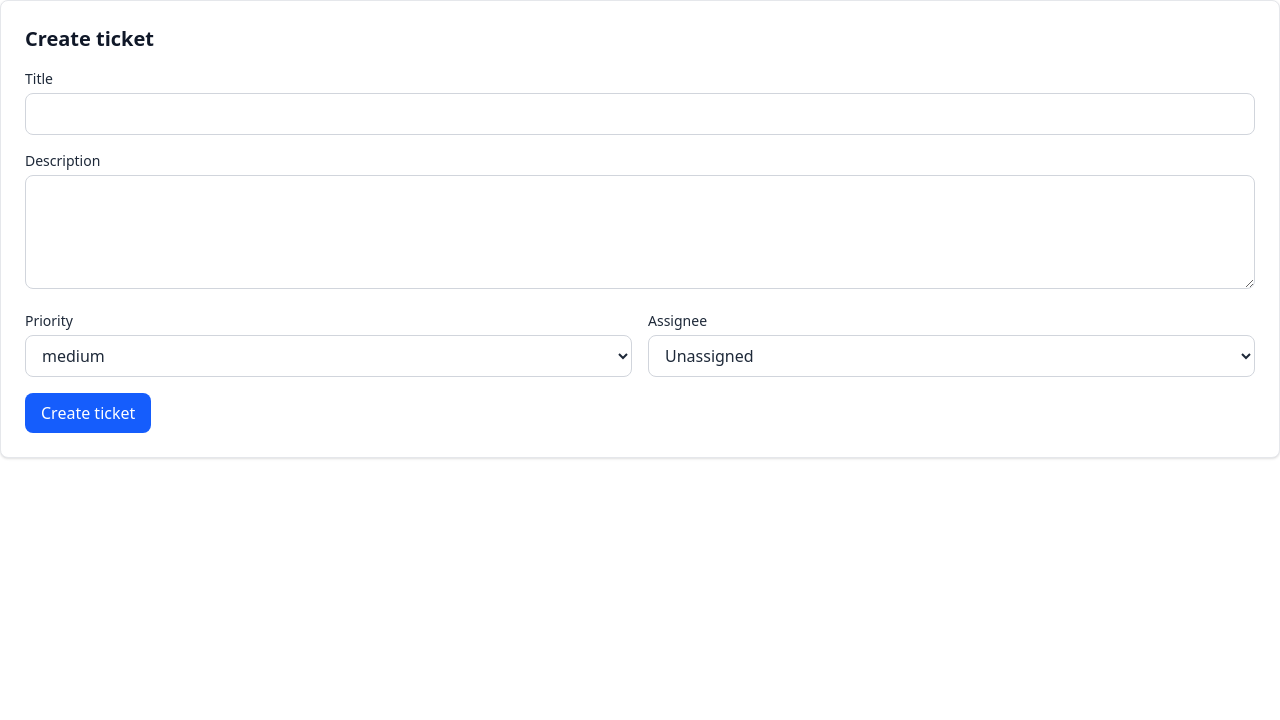
it: CreateTicketForm › shows validation error for HTML in title
Type "Bad <title>" into the field labelled "Title".
click(640, 114); type("Bad <title>")  # box x1=25 y1=93 x2=1255 y2=135
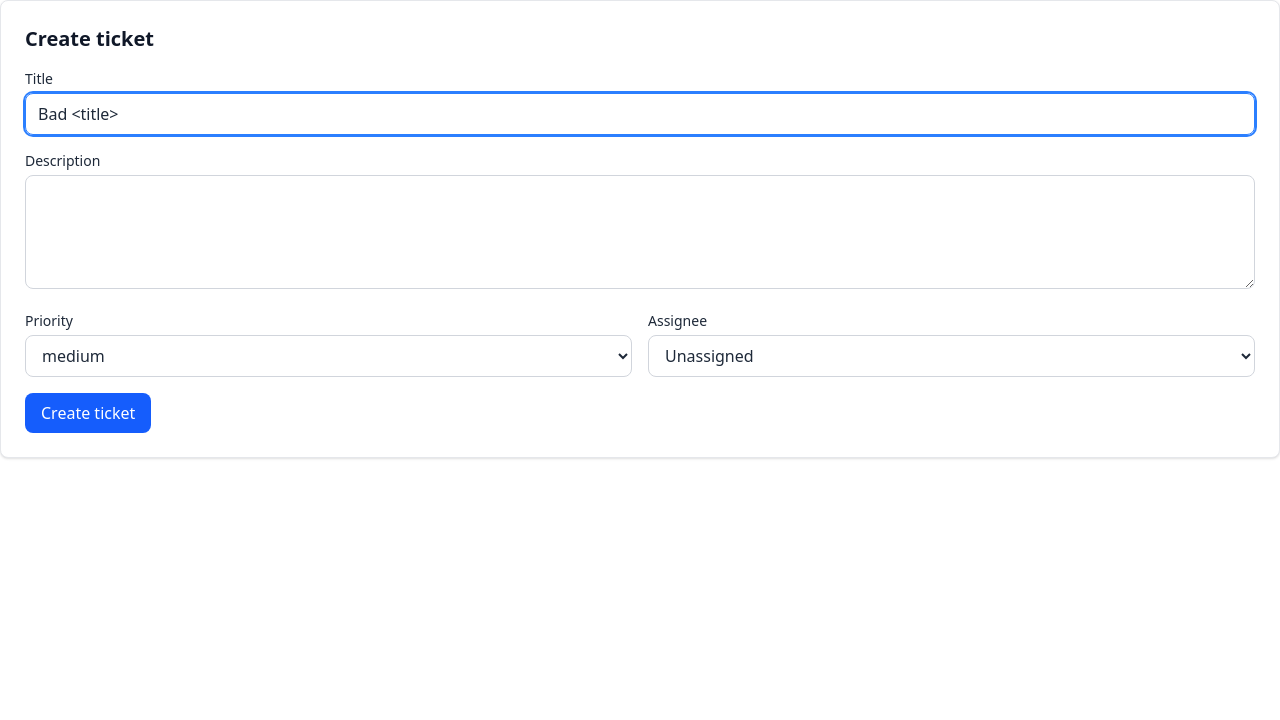
Type "Valid description" into the text box labelled "Description".
click(640, 232); type("Valid description")  # box x1=25 y1=175 x2=1255 y2=289
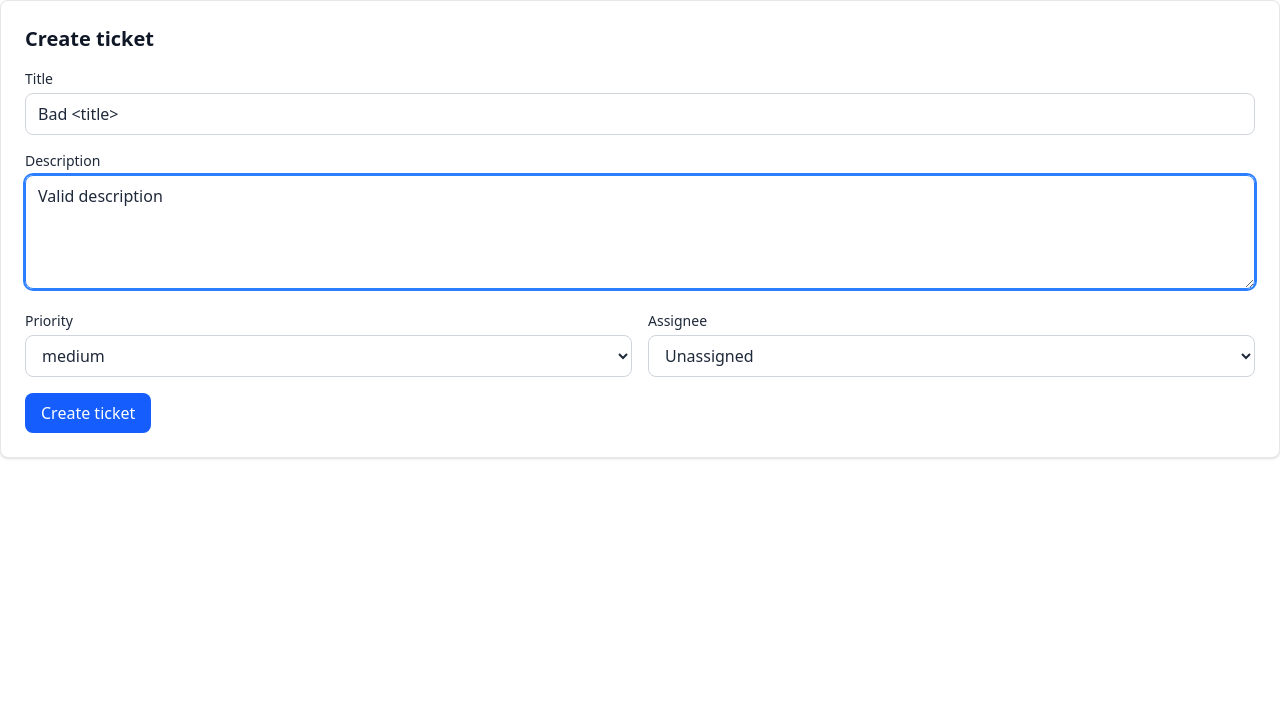
Click the button "Create ticket".
click(88, 413)  # box x1=25 y1=393 x2=151 y2=433
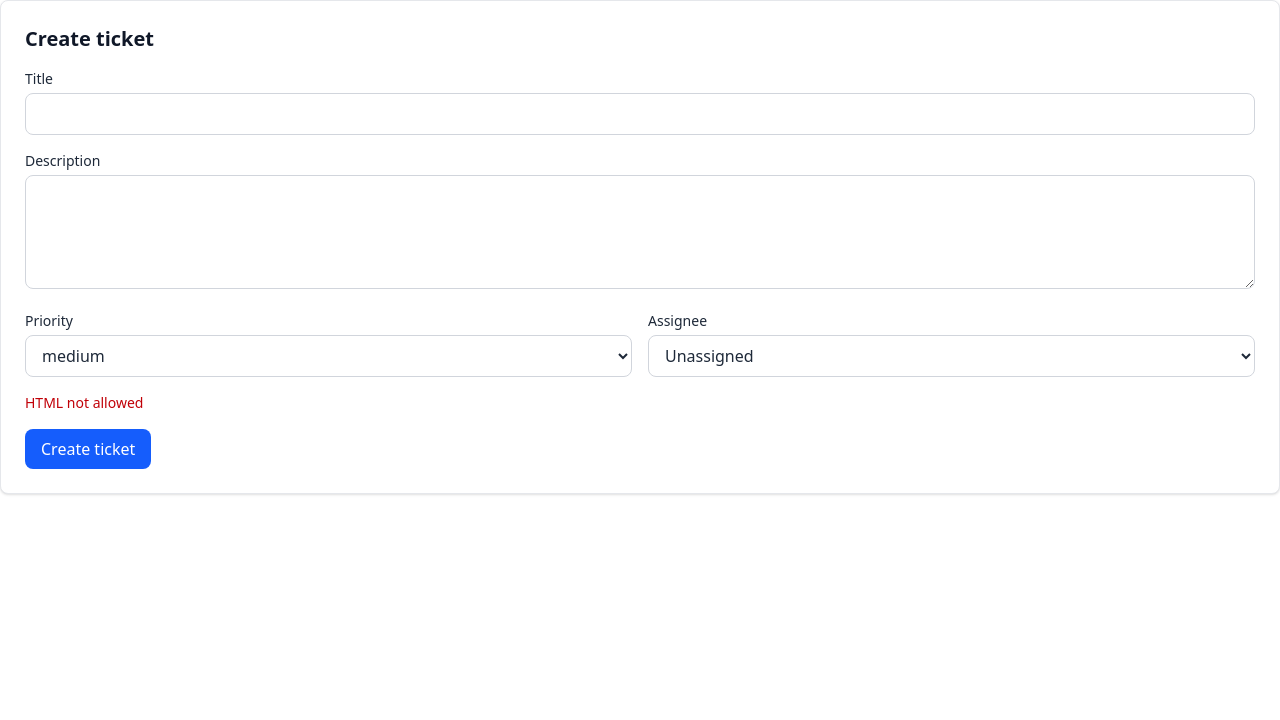
Expected: the message "HTML not allowed" is shown, x1=25 y1=393 x2=143 y2=412
